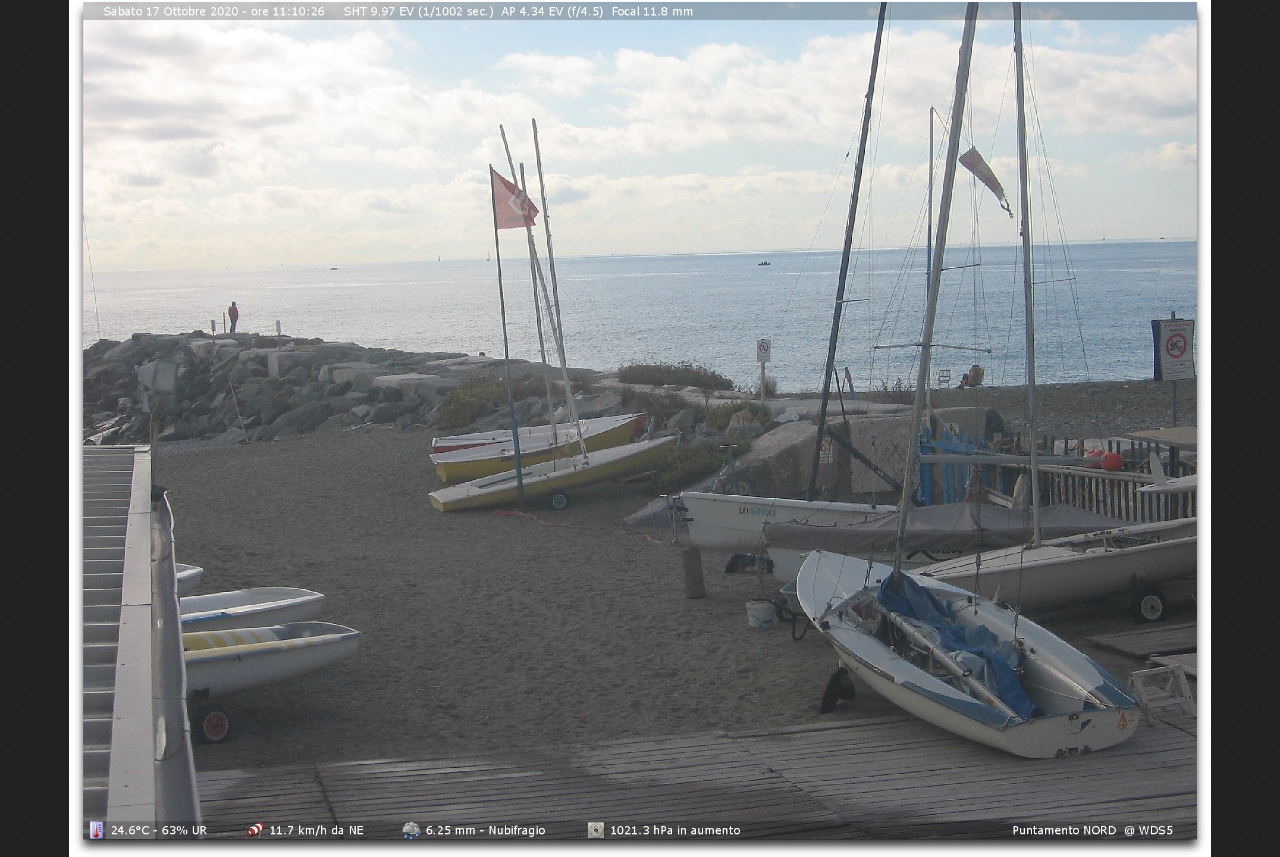yes: (483, 165, 544, 234)
